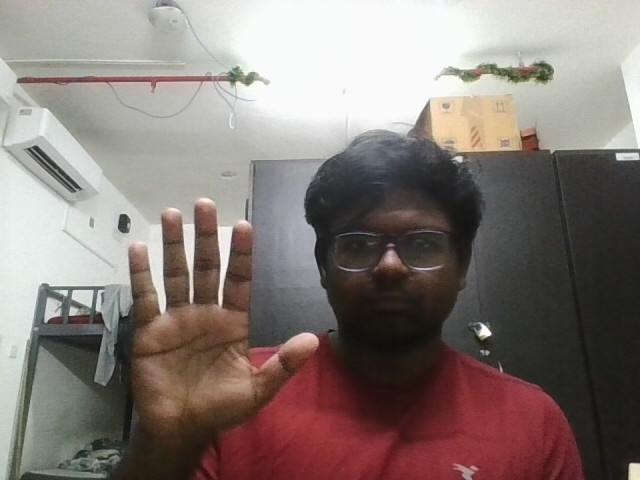Hello: (110, 187, 328, 451)
